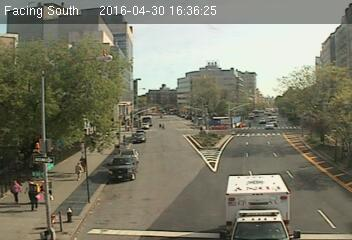neg: (102, 159, 134, 202), (261, 157, 290, 195), (312, 135, 337, 168), (227, 11, 252, 44), (56, 203, 79, 234), (120, 56, 143, 87), (320, 93, 341, 122), (282, 85, 303, 113), (219, 164, 240, 192), (32, 4, 49, 27), (79, 58, 96, 80), (141, 5, 158, 27), (210, 87, 226, 108), (182, 3, 195, 21), (194, 63, 207, 81), (150, 63, 163, 80), (246, 60, 258, 76), (228, 62, 239, 77)
pos: (22, 178, 46, 210), (3, 177, 26, 207), (70, 161, 87, 183), (75, 151, 91, 173), (160, 120, 169, 132), (156, 122, 162, 129), (247, 122, 253, 129)
